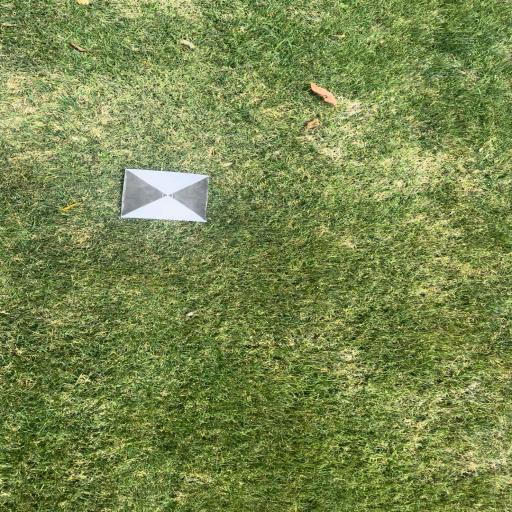target: (121, 168, 210, 222)
